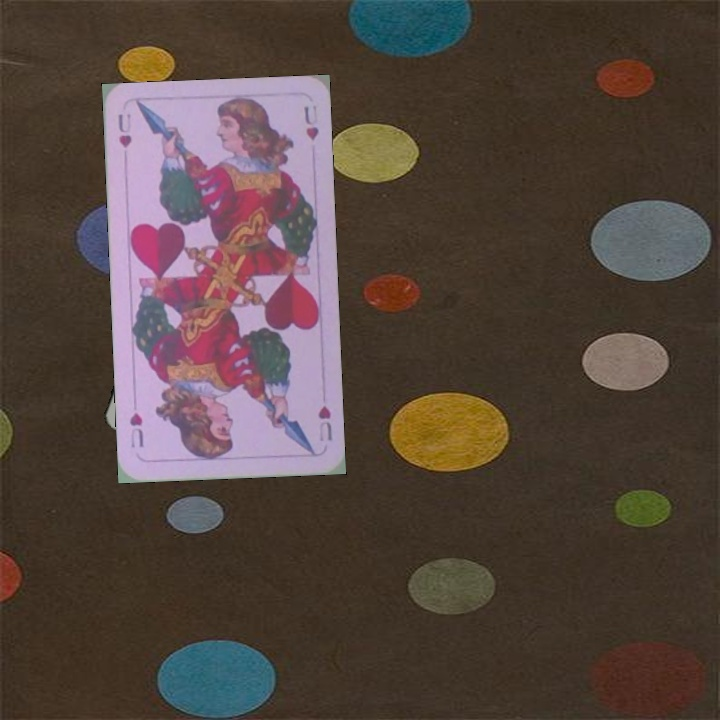HU: (314, 401, 335, 444), (114, 109, 135, 151)
